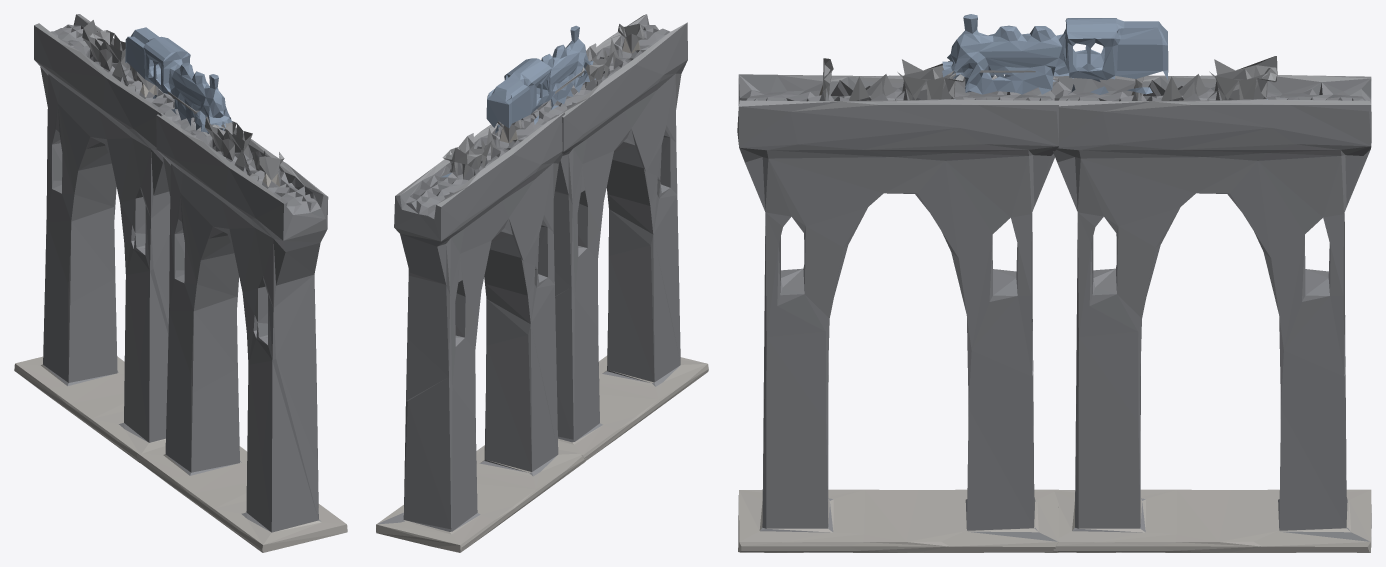
3 views of the same model, side by side, from view 1: azimuth 30°, elevation 25°; view 2: azimuth 150°, elevation 25°; view 3: azimuth 270°, elevation 25° (orthographic). The views are drawn at different scales.
Parts seen in each view (by area): view 1: geometry_0; view 2: geometry_0; view 3: geometry_0.
Part boxes in pixels (box(x1,y1,x2,y2)): geometry_0: box(14, 14, 347, 552); geometry_0: box(376, 14, 708, 552); geometry_0: box(737, 14, 1371, 552).
Bounding box in the file's own units: 0.3964 × 1.76 × 1.98.
